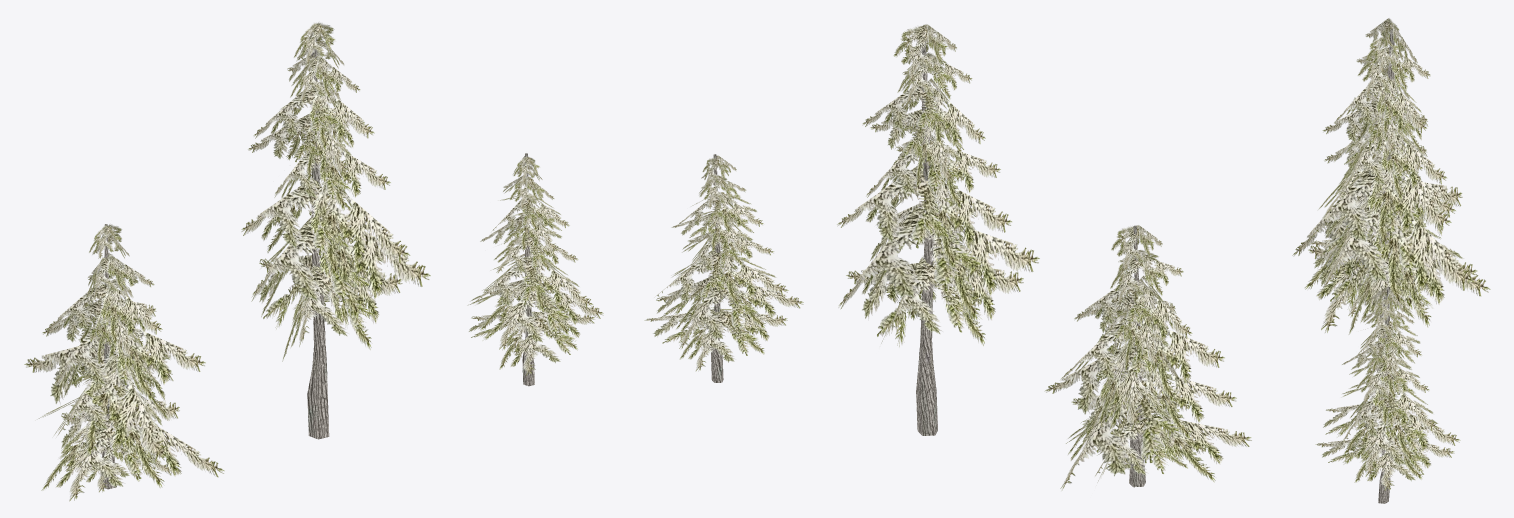
The model's file is snowy-pine-pack.glb.
The picture shows the model from 3 angles, left to right: view 1: azimuth 30°, elevation 25°; view 2: azimuth 150°, elevation 25°; view 3: azimuth 270°, elevation 25°; orthographic projection. The views are drawn at different scales.
Parts seen in each view (by area): view 1: Tree_Pine_Snowy_T2, Tree_Pine_Snowy_T3, Tree_Pine_Snowy_T1; view 2: Tree_Pine_Snowy_T2, Tree_Pine_Snowy_T3, Tree_Pine_Snowy_T1; view 3: Tree_Pine_Snowy_T2, Tree_Pine_Snowy_T1, Tree_Pine_Snowy_T3.
Part boxes in pixels (x1,y1,x2,y2): Tree_Pine_Snowy_T2: [241, 22, 430, 439]; Tree_Pine_Snowy_T3: [24, 224, 224, 501]; Tree_Pine_Snowy_T1: [467, 153, 603, 386]; Tree_Pine_Snowy_T2: [837, 24, 1039, 435]; Tree_Pine_Snowy_T3: [1044, 225, 1251, 490]; Tree_Pine_Snowy_T1: [644, 154, 803, 382]; Tree_Pine_Snowy_T2: [1307, 18, 1477, 399]; Tree_Pine_Snowy_T1: [1315, 286, 1460, 503]; Tree_Pine_Snowy_T3: [1292, 63, 1490, 332].
Size of the model in its own units: 27.3 by 19.63 by 9.36.
1 material, 1 textured.
